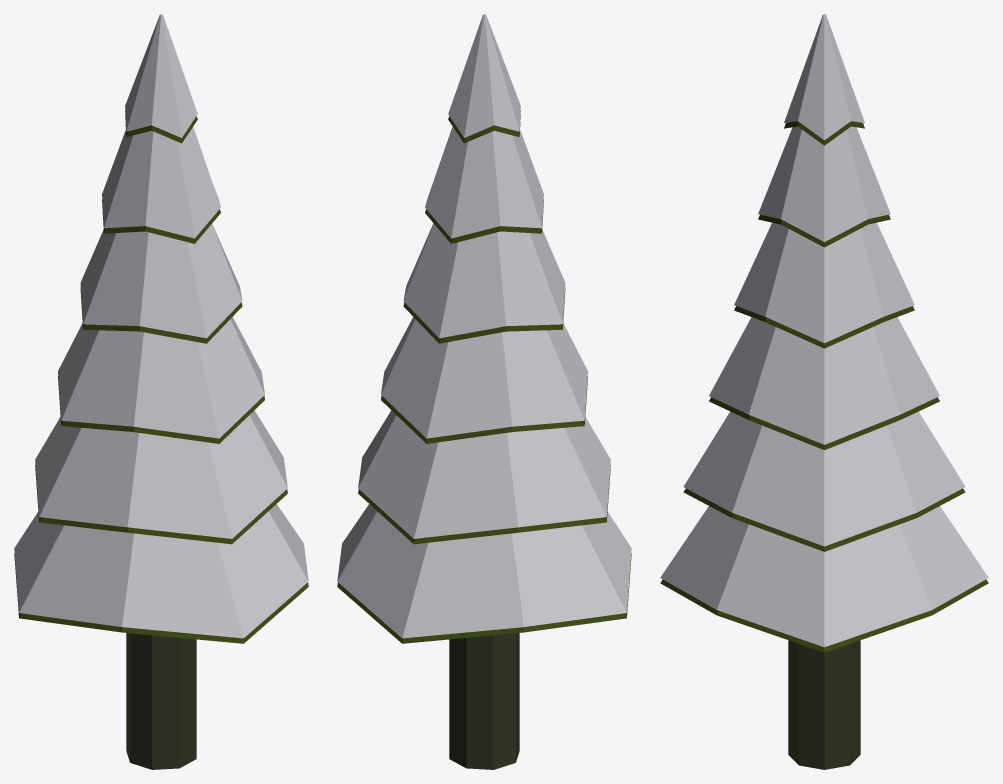
File: tree2.gltf
3 views of the same model, side by side, from view 1: azimuth 30°, elevation 25°; view 2: azimuth 150°, elevation 25°; view 3: azimuth 270°, elevation 25° (orthographic).
Parts seen in each view (by area): view 1: SapinHiver_Cylinder.008; view 2: SapinHiver_Cylinder.008; view 3: SapinHiver_Cylinder.008.
Boxes of the visible parts, x1,y1,x2,y2 form: SapinHiver_Cylinder.008: [14, 14, 308, 769]; SapinHiver_Cylinder.008: [337, 14, 631, 769]; SapinHiver_Cylinder.008: [660, 14, 988, 769].
Size of the model in its own units: 2.02 by 5.02 by 2.02.
